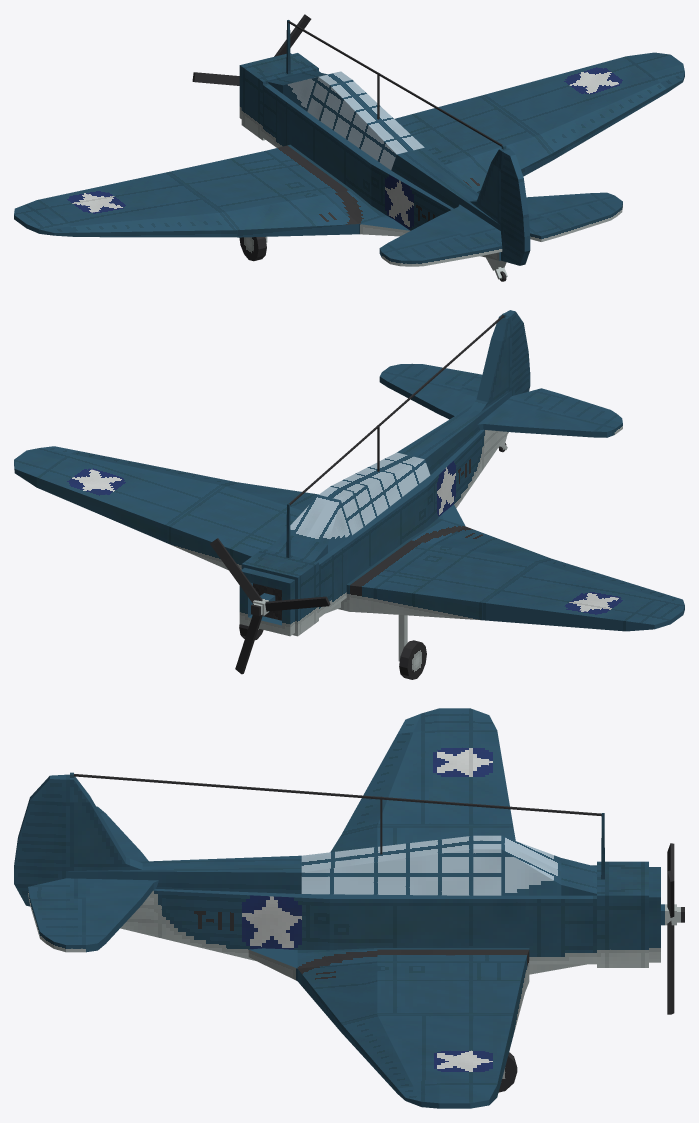
The picture shows the model from 3 angles, top to bottom: view 1: azimuth 30°, elevation 25°; view 2: azimuth 150°, elevation 25°; view 3: azimuth 270°, elevation 25°; orthographic projection. The views are drawn at different scales.
Visible parts, largest first — view 1: Winghull, cube (×11), Left wing (×2), Left flap (×2), Cockpit (×2), Top Back Flap, Left Back Flap, Right Back Flap, Landing gear right, Propelli; view 2: cube (×12), Winghull, Left wing (×2), Cockpit (×2), Left Back Flap, Propelli (×3), Left flap (×2), Top Back Flap, Right Back Flap, Landing gear right; view 3: cube (×12), Left wing (×2), Winghull, Cockpit (×2), Top Back Flap, Left flap (×2), Right Back Flap, Propelli.
Part boxes in pixels (x1,y1,x2,y2): Winghull: [168, 95, 551, 237]; cube (×11): [241, 21, 614, 260]; Left wing (×2): [14, 52, 684, 233]; Left flap (×2): [39, 72, 684, 237]; Cockpit (×2): [283, 71, 424, 170]; Top Back Flap: [497, 148, 530, 265]; Left Back Flap: [382, 228, 502, 266]; Right Back Flap: [529, 195, 622, 241]; Landing gear right: [239, 237, 266, 261]; Propelli: [192, 72, 239, 85]; cube (×12): [241, 315, 614, 636]; Winghull: [167, 482, 550, 620]; Left wing (×2): [14, 448, 684, 631]; Cockpit (×2): [283, 452, 430, 552]; Left Back Flap: [508, 388, 622, 434]; Propelli (×3): [210, 538, 330, 674]; Left flap (×2): [40, 446, 684, 605]; Top Back Flap: [501, 310, 530, 395]; Right Back Flap: [382, 363, 482, 392]; Landing gear right: [399, 640, 426, 679]; cube (×12): [66, 774, 660, 967]; Left wing (×2): [377, 708, 513, 1108]; Winghull: [248, 825, 529, 1035]; Cockpit (×2): [301, 835, 561, 895]; Top Back Flap: [14, 774, 73, 906]; Left flap (×2): [341, 713, 421, 1106]; Right Back Flap: [28, 878, 85, 952]; Propelli: [667, 921, 674, 1014].
Size of the model in its own units: 14.62 by 4.66 by 10.5.
1 material, 1 textured.
